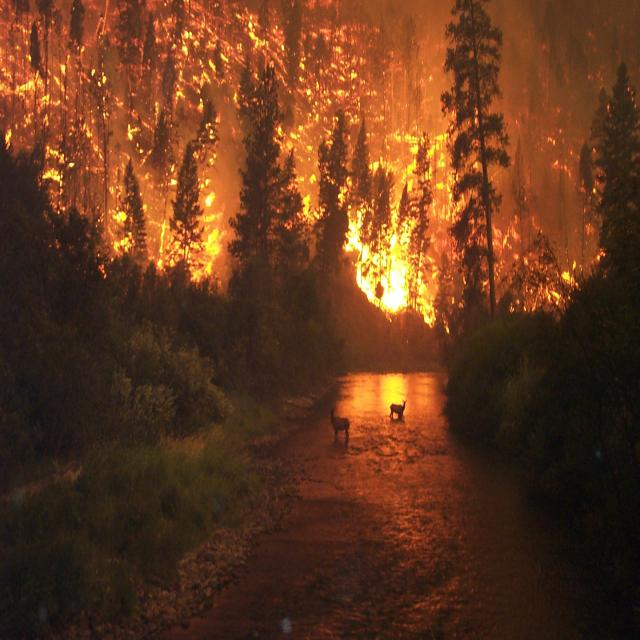Fire: (17, 12, 267, 252), (447, 130, 578, 307), (320, 170, 436, 328), (292, 14, 396, 128)
